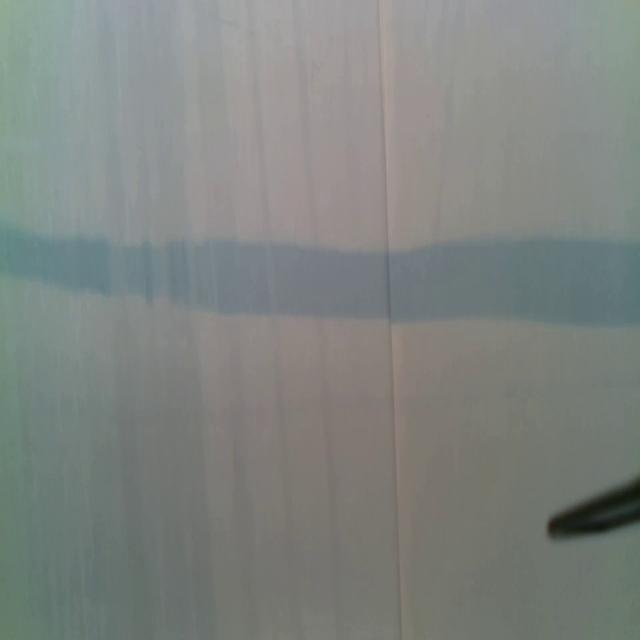color bleeding: (1, 217, 640, 332)
crease: (377, 0, 405, 640)
